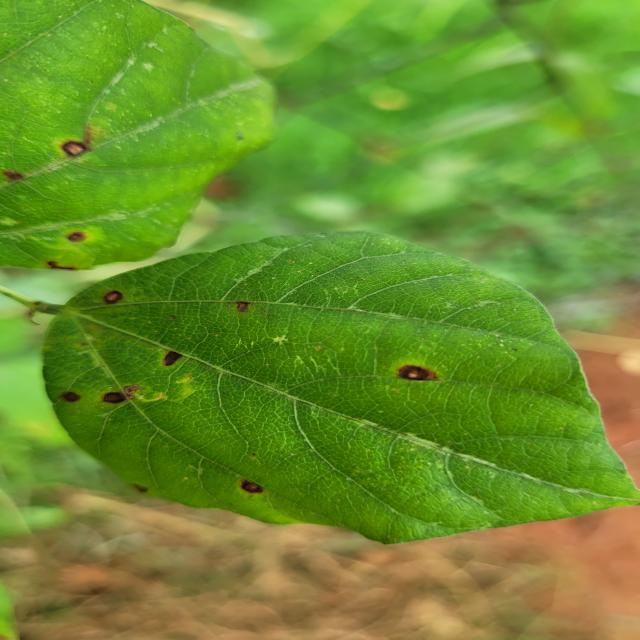Dolicos bean_cercospora leaf spot: (37, 230, 640, 546), (0, 0, 263, 270)
